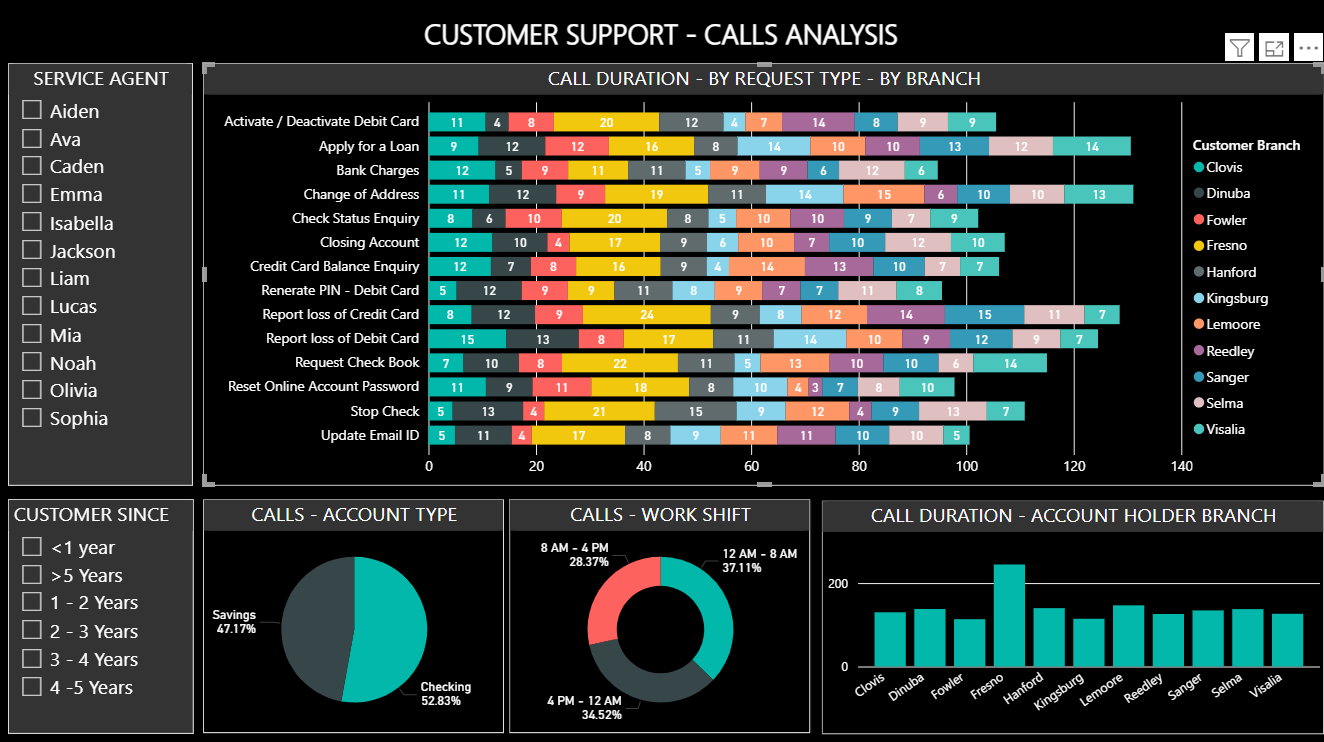

What the dashboard file says about the page in this screenshot:
{"tool":"powerbi","page":{"name":"Page 1","canvas":[1280,720],"ordinal":0},"visuals":[{"type":"barChart","title":"CALL DURATION - BY REQUEST TYPE - BY BRANCH","fields":{"Y":["Sum(CallsTable.Call Duration)"],"Category":["CallsTable.Service Request Type"],"Series":["CallsTable.Account Holder Branch"]},"box":[197.7,62.6,1082.6,408.3],"z":0},{"type":"pieChart","title":"CALLS - ACCOUNT TYPE","fields":{"Y":["Sum(CallsTable.Call Duration)"],"Category":["CallsTable.Account Type"]},"box":[197.9,483.8,290.8,225.6],"z":1},{"type":"donutChart","title":"CALLS - WORK SHIFT","fields":{"Y":["Sum(CallsTable.Call Duration)"],"Category":["CallsTable.Shift"]},"box":[493.4,483.8,290.8,225.6],"z":2},{"type":"clusteredColumnChart","title":"CALL DURATION - ACCOUNT HOLDER BRANCH","fields":{"Y":["Sum(CallsTable.Call Duration)"],"Category":["CallsTable.Account Holder Branch"]},"box":[795,485,485,225.6],"z":3},{"type":"slicer","title":"SERVICE AGENT","fields":{"Values":["CallsTable.Service Agent Name"]},"box":[9.7,62.7,178.6,407.8],"z":4},{"type":"slicer","title":"CUSTOMER SINCE","fields":{"Values":["CallsTable.Customer Since"]},"box":[10,484,179,226],"z":5},{"type":"textbox","box":[0,10.9,1280,51.9],"z":6}]}

Visuals, with their boxes in screenshot pixels (x1, y1, x2, y2), scaled from the page's 1280x720 canvas onto the 1324x742 screenshot:
"CALL DURATION - BY REQUEST TYPE - BY BRANCH" barChart: left=204, top=65, right=1323, bottom=485
"CALLS - ACCOUNT TYPE" pieChart: left=205, top=499, right=505, bottom=731
"CALLS - WORK SHIFT" donutChart: left=510, top=499, right=811, bottom=731
"CALL DURATION - ACCOUNT HOLDER BRANCH" clusteredColumnChart: left=822, top=500, right=1323, bottom=732
"SERVICE AGENT" slicer: left=10, top=65, right=195, bottom=485
"CUSTOMER SINCE" slicer: left=10, top=499, right=195, bottom=732
textbox: left=0, top=11, right=1323, bottom=65
